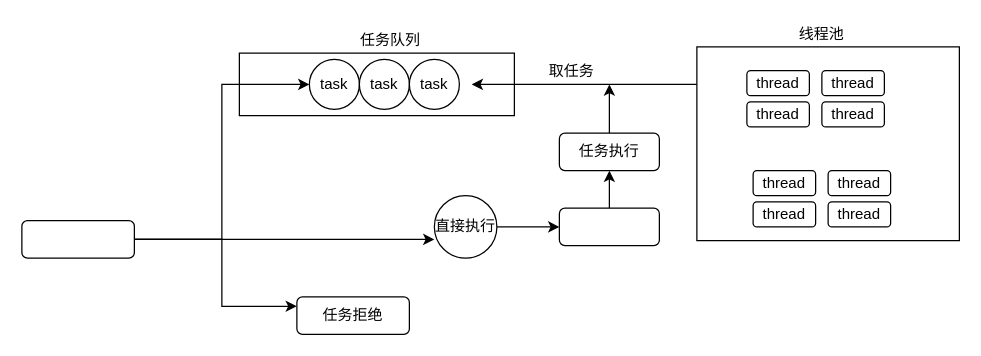
This 981x356 diagram has some shape labels left out. The centre of each missing label's shape, as x and y in pixels:
任务分配: the point at 77,238
线程分配: the point at 608,226
